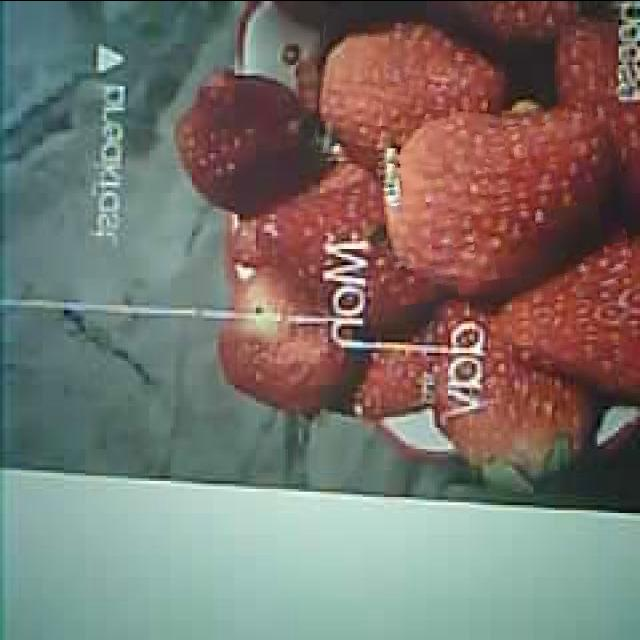strawberry: (380, 104, 628, 298), (315, 14, 506, 168)
